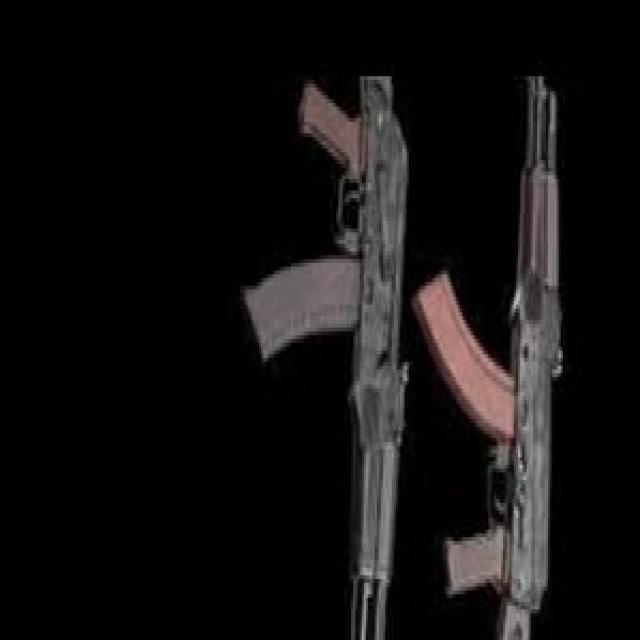weapon: (243, 76, 410, 640), (412, 73, 564, 640)
